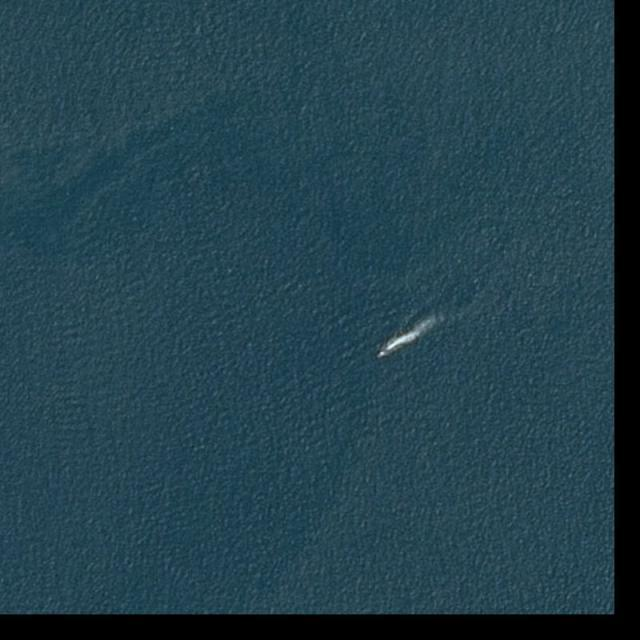ship: (375, 351, 387, 360)
